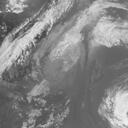cyclone: (29, 18, 87, 83)
